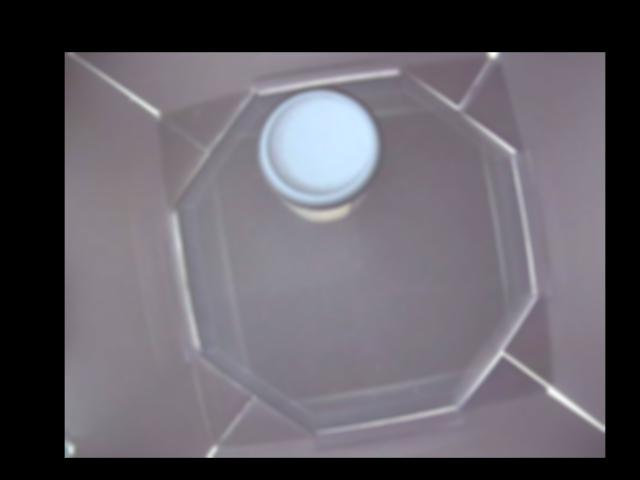Bottle: (262, 86, 384, 222)
